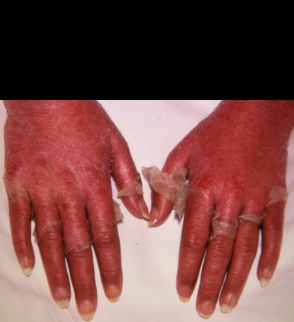SJS-TEN: (133, 71, 294, 280), (0, 100, 145, 257)
